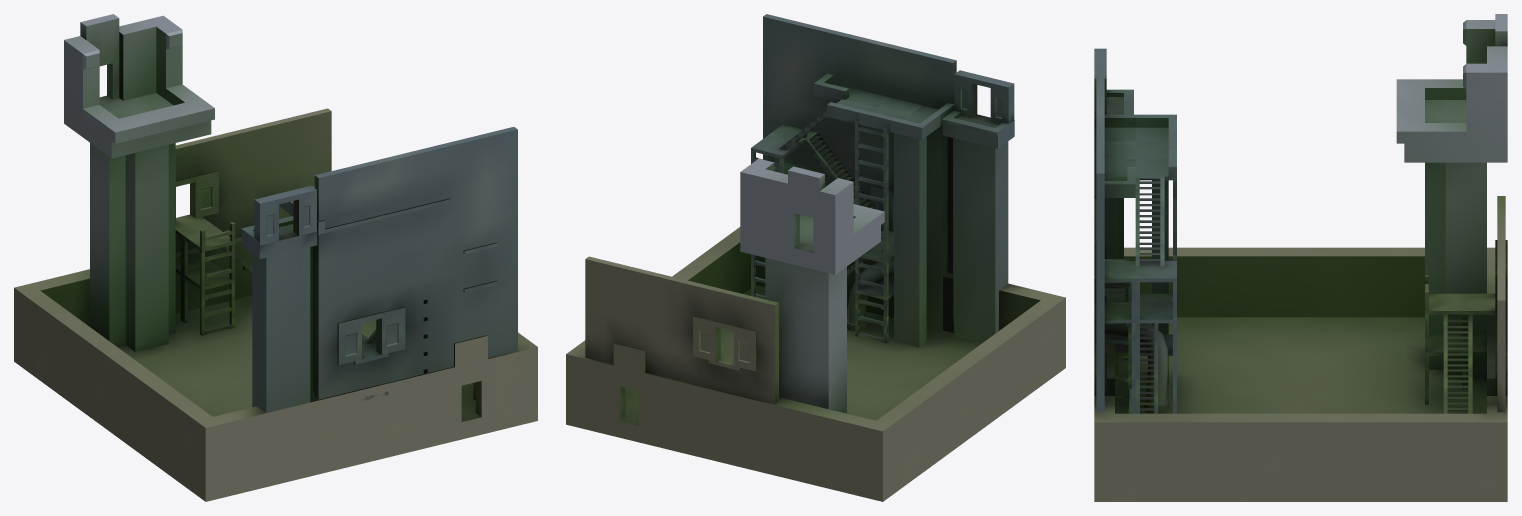
The picture shows the model from 3 angles, left to right: view 1: azimuth 30°, elevation 25°; view 2: azimuth 150°, elevation 25°; view 3: azimuth 270°, elevation 25°; orthographic projection. The views are drawn at different scales.
Visible parts, largest first — view 1: fancy stairs01, two_tank_roof10, deck roof01, simple stairs01; view 2: fancy stairs01, two_tank_roof10, deck roof01, simple stairs01; view 3: two_tank_roof10, fancy stairs01, deck roof01, simple stairs01.
Boxes of the visible parts, x1,y1,x2,y2 form: fancy stairs01: (241,127,517,413); two_tank_roof10: (14,204,537,501); deck roof01: (64,14,214,351); simple stairs01: (175,108,331,335); fancy stairs01: (751,14,1014,347); two_tank_roof10: (566,227,1065,501); deck roof01: (740,158,884,413); simple stairs01: (585,256,778,404); two_tank_roof10: (1094,247,1507,501); fancy stairs01: (1094,48,1176,413); deck roof01: (1396,14,1507,378); simple stairs01: (1425,196,1507,413).
Size of the model in its own units: 20 by 18.6 by 20.01.
